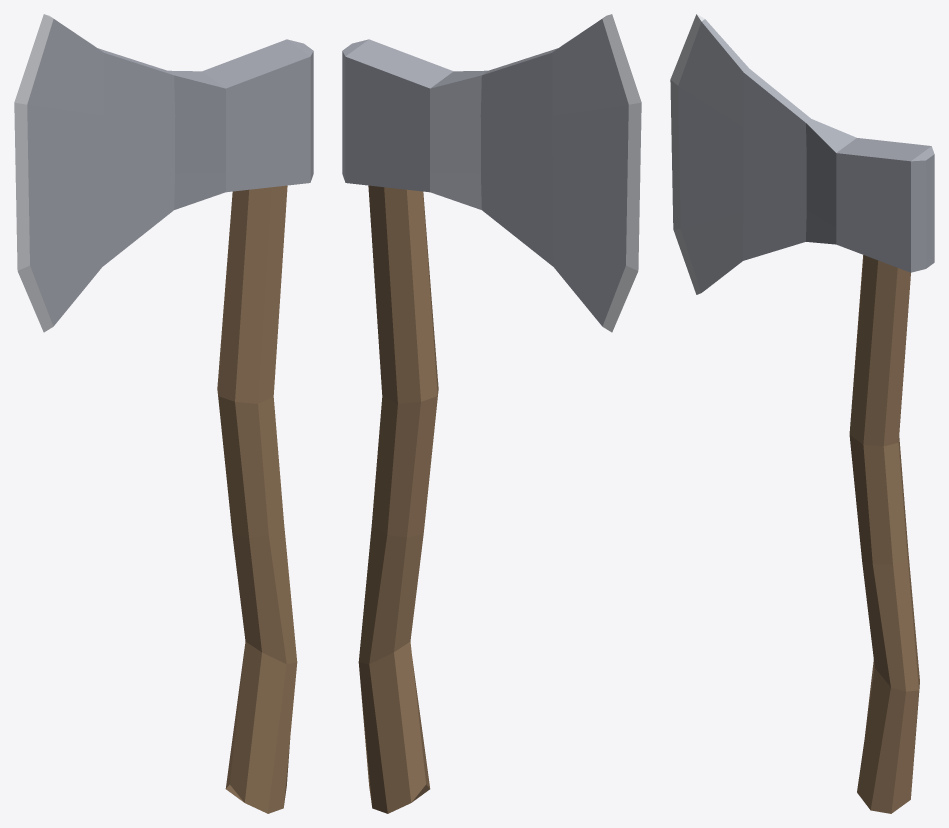
Rendered from axe.glb.
3 views of the same model, side by side, from view 1: azimuth 30°, elevation 25°; view 2: azimuth 150°, elevation 25°; view 3: azimuth 330°, elevation 25° (orthographic). The views are drawn at different scales.
Parts seen in each view (by area): view 1: Axe_Small; view 2: Axe_Small; view 3: Axe_Small.
Part boxes in pixels (x1,y1,x2,y2): Axe_Small: (14, 14, 313, 813); Axe_Small: (342, 14, 641, 813); Axe_Small: (670, 14, 934, 813).
Bounding box in the file's own units: 0.9 × 2.46 × 0.1423.
